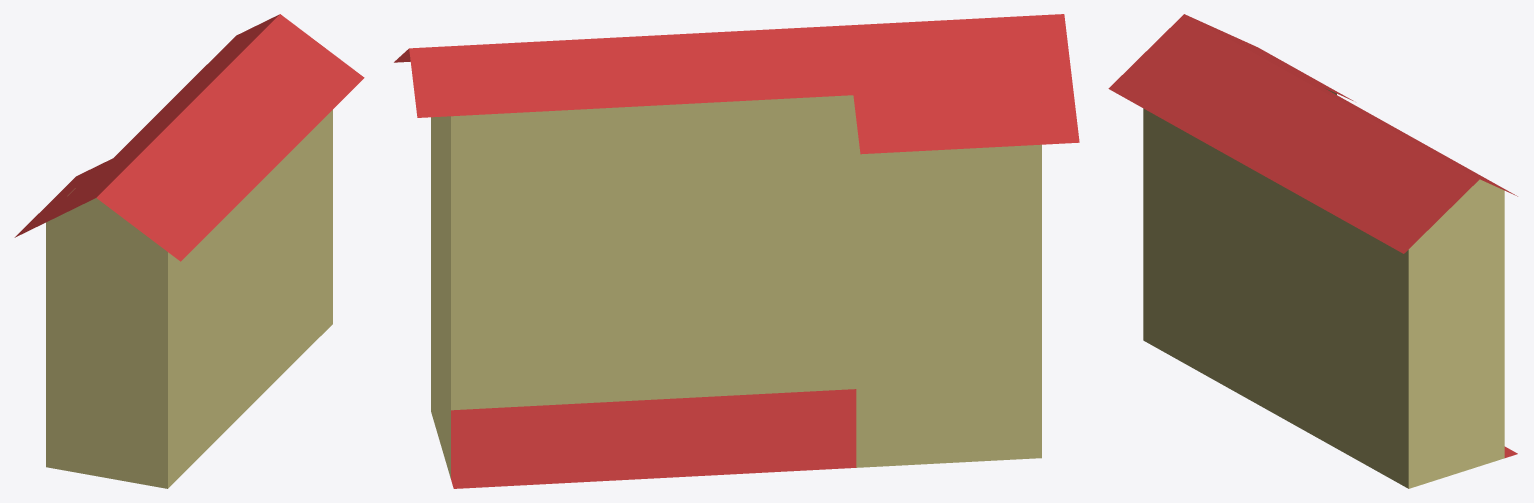
3 views of the same model, side by side, from view 1: azimuth 30°, elevation 25°; view 2: azimuth 150°, elevation 25°; view 3: azimuth 270°, elevation 25° (orthographic). The views are drawn at different scales.
Size of the model in its own units: 10.08 by 8.22 by 6.62.
